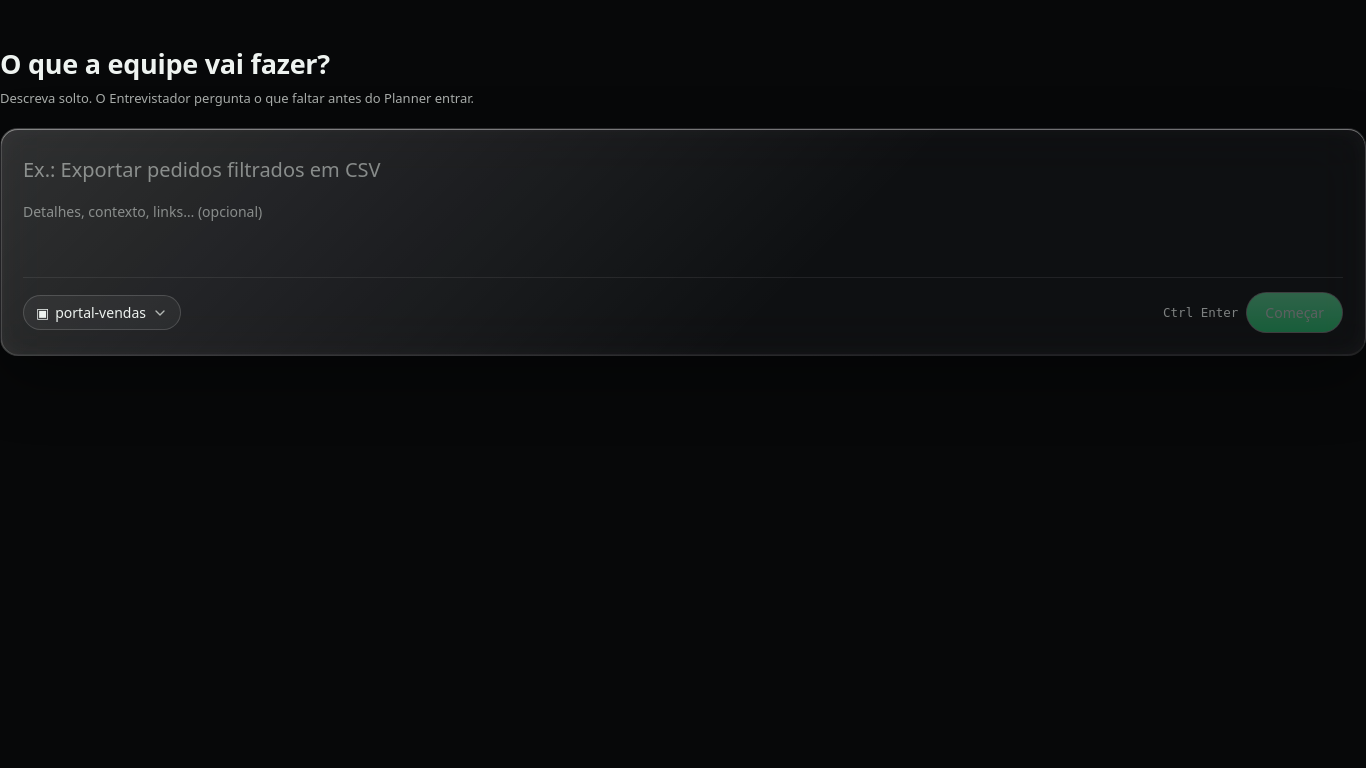
Test: Composer (nova tarefa) › "Adicionar pasta existente" abre o navegador de pastas; Esc fecha
Step 1. Click the dropdown named "repositório" → (102, 312), box [23,295,181,330]
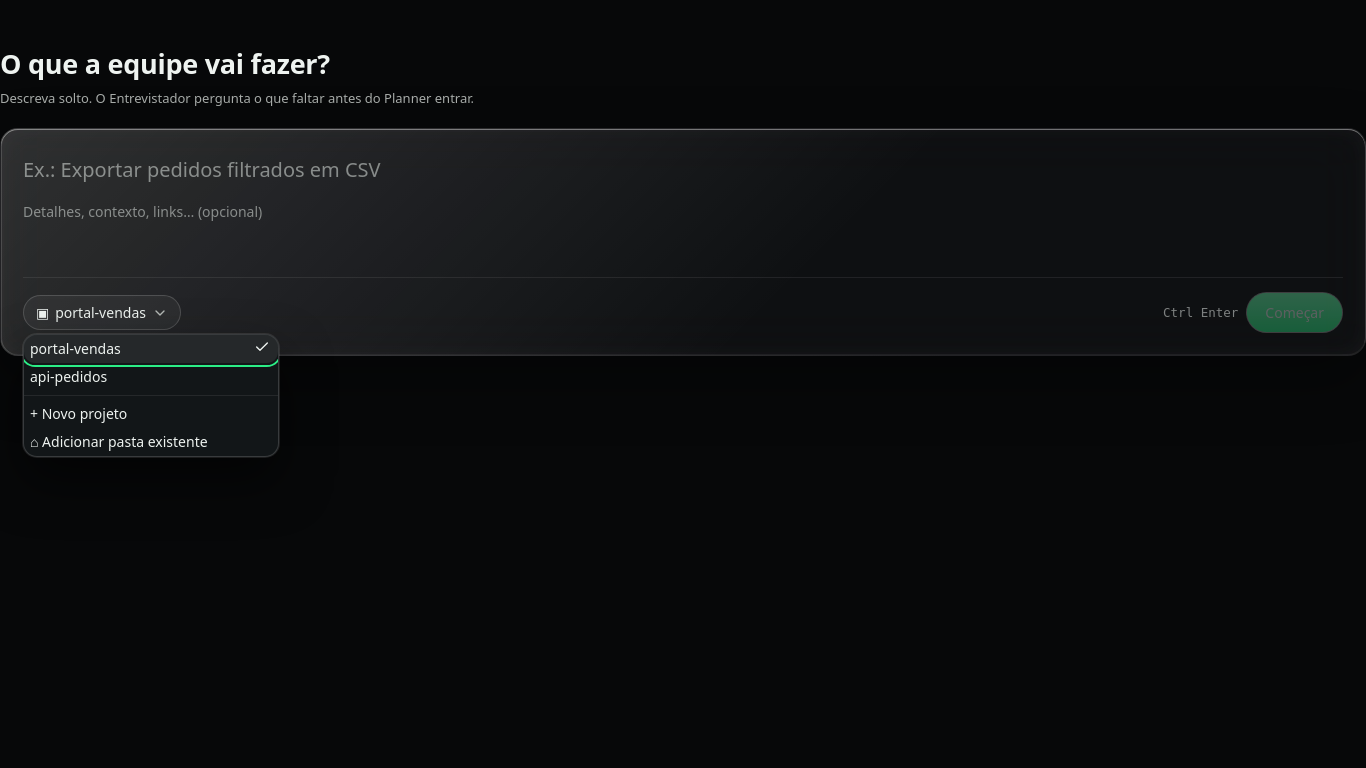
Step 2. Click the option "⌂ Adicionar pasta existente" → (119, 442), box [30,432,208,451]
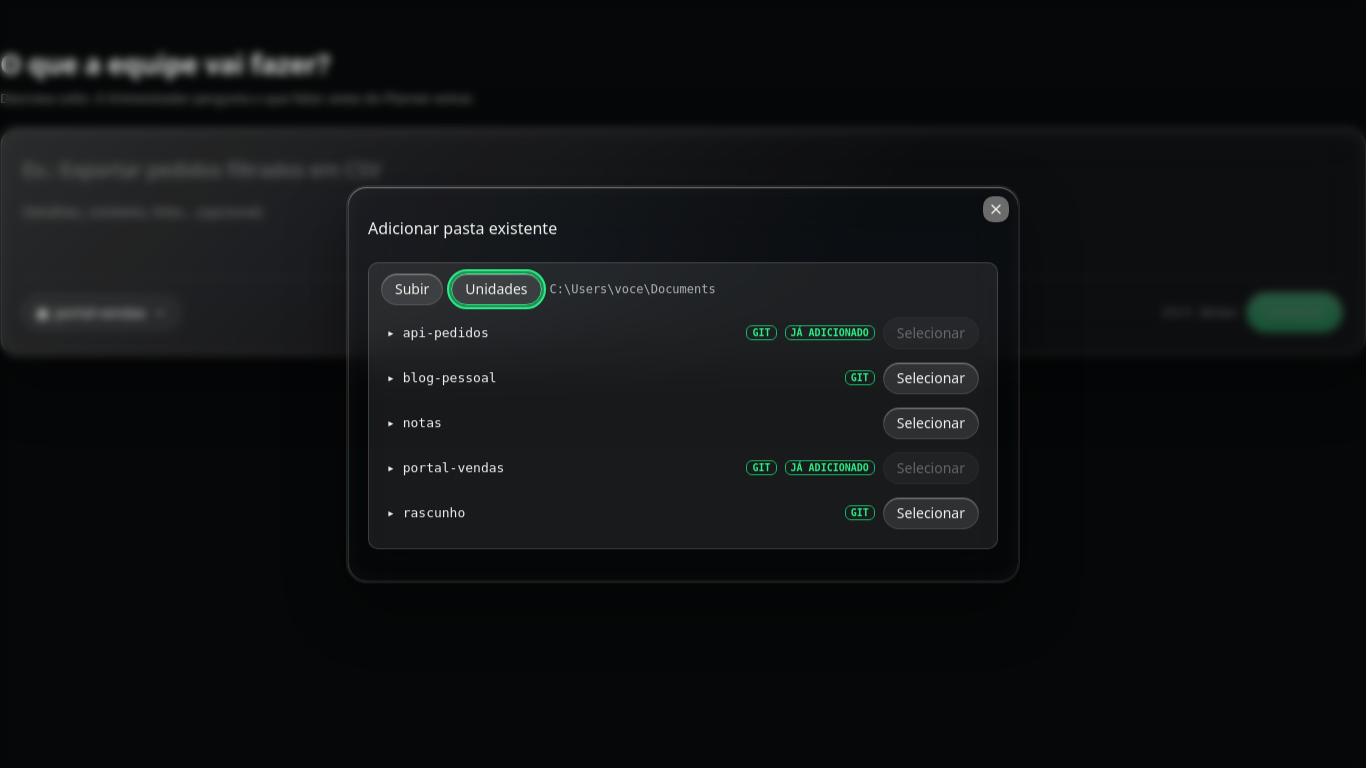
Now the list named "Pastas" is shown, box [381,313,985,538]
Step 3. Press Escape
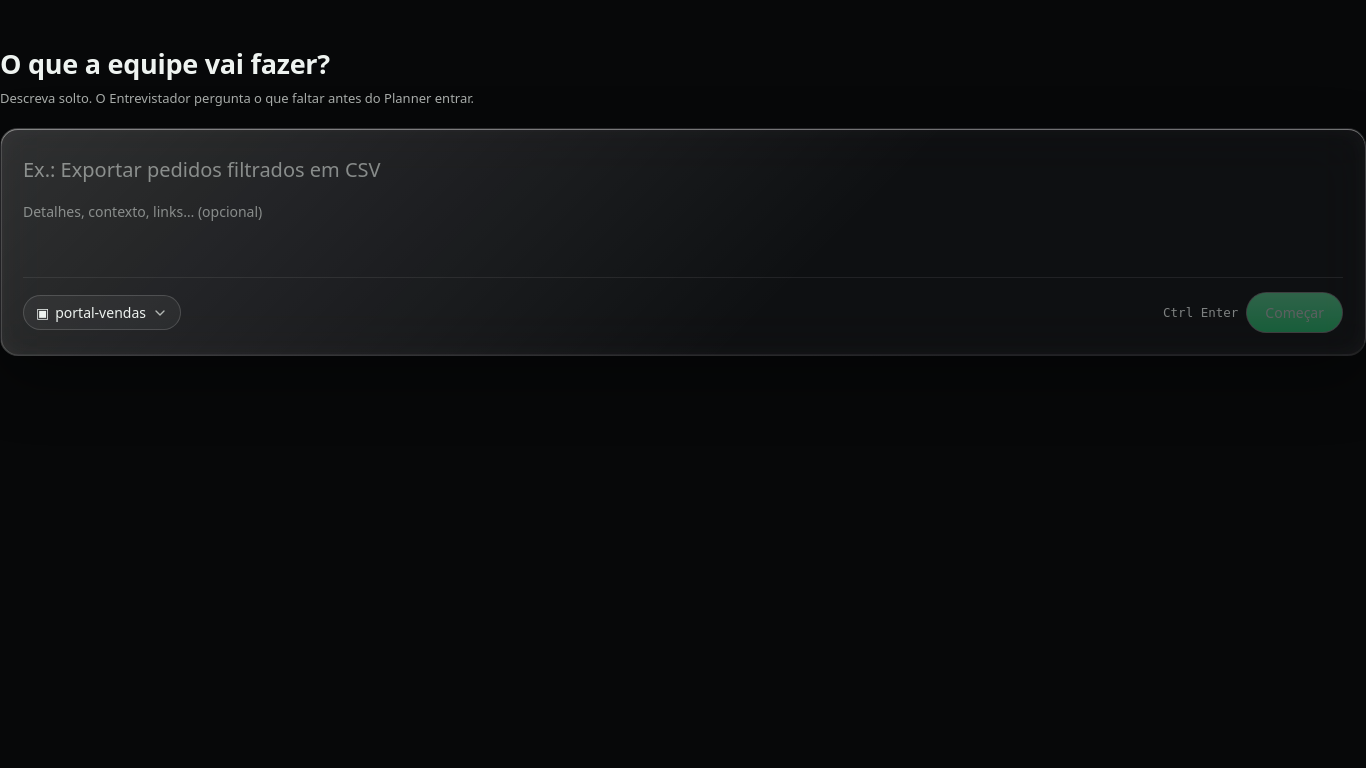
Now the dialog is gone
